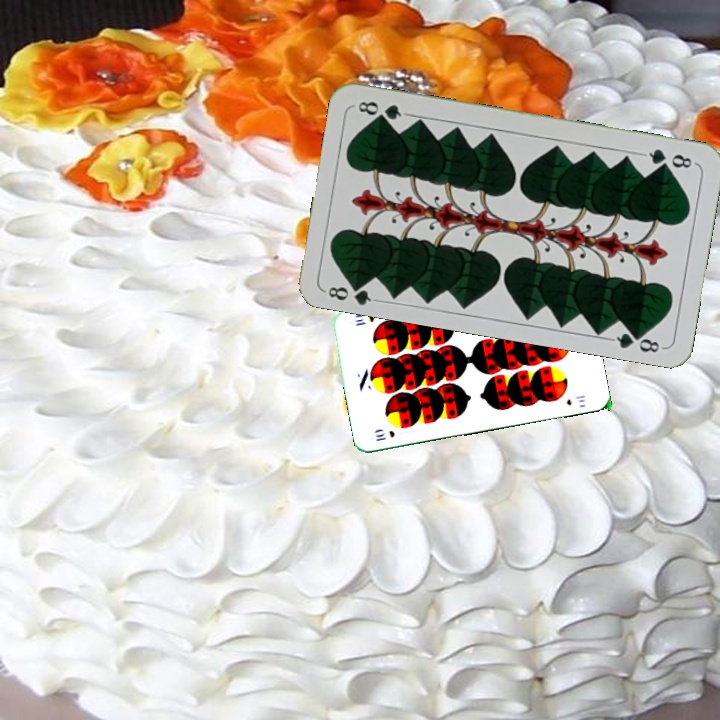G8: (321, 276, 380, 307), (639, 144, 698, 171)
S10: (372, 426, 397, 444)
